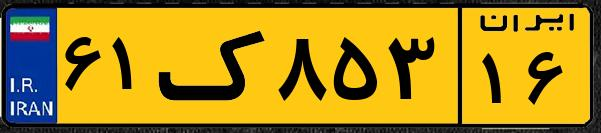1: (475, 38, 525, 113), (110, 28, 158, 98)
3: (385, 28, 445, 110)
5: (330, 28, 385, 110)
6: (57, 26, 110, 100), (525, 38, 570, 115)
8: (270, 28, 330, 110)
ک: (158, 12, 270, 120)
